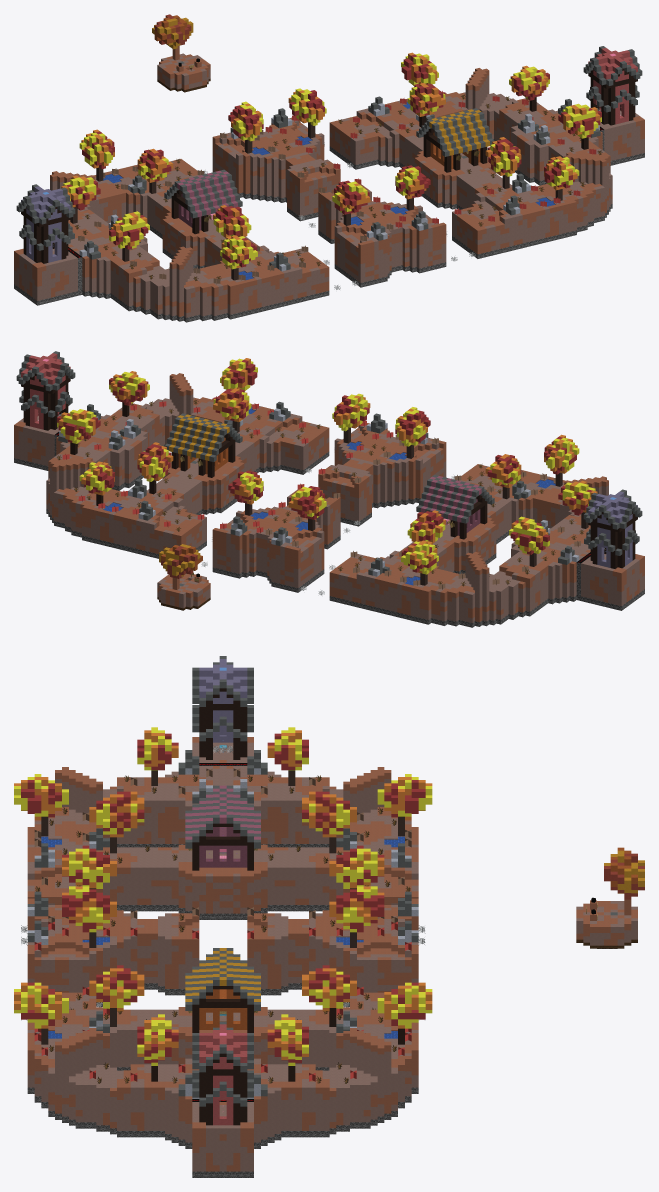
The model's file is minecraft.obj.
The picture shows the model from 3 angles, top to bottom: view 1: azimuth 30°, elevation 25°; view 2: azimuth 150°, elevation 25°; view 3: azimuth 270°, elevation 25°; orthographic projection. The views are drawn at different scales.
Size of the model in its own units: 135 by 21 by 92.
